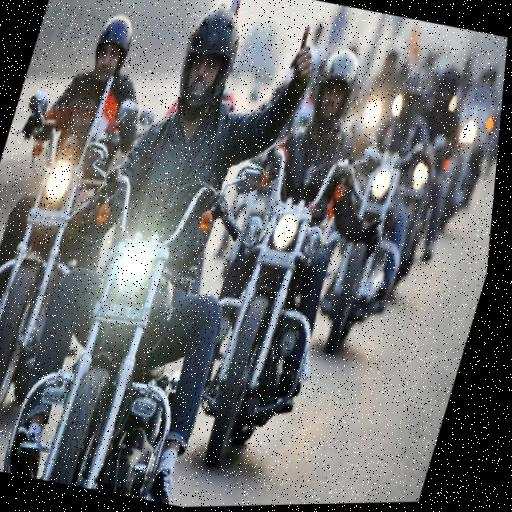Helmet: (162, 0, 256, 128), (301, 40, 369, 138), (80, 1, 150, 93), (392, 61, 442, 134)
Motor: (30, 169, 220, 495), (184, 142, 364, 468), (0, 86, 150, 432), (309, 140, 432, 352)
